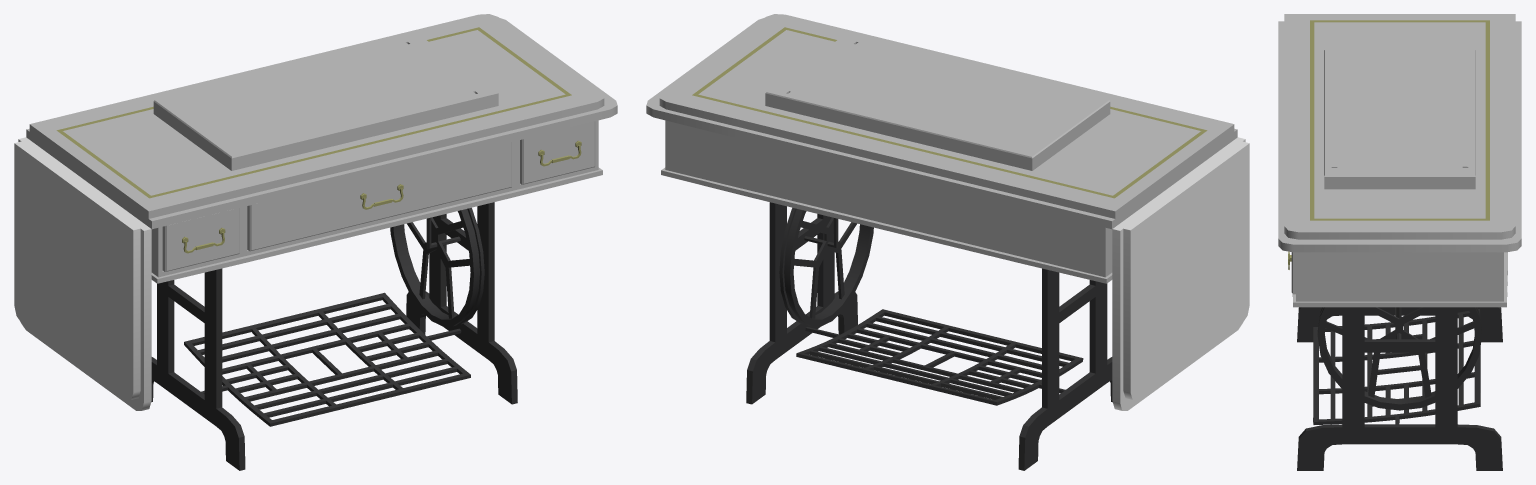
Rendered from desk-1.fbx.
The picture shows the model from 3 angles, left to right: view 1: azimuth 30°, elevation 25°; view 2: azimuth 150°, elevation 25°; view 3: azimuth 270°, elevation 25°; orthographic projection. The views are drawn at different scales.
Parts seen in each view (by area): view 1: desk-1, desk-1-part; view 2: desk-1, desk-1-part; view 3: desk-1.
Part boxes in pixels (x1=…): desk-1: x1=26, y1=14, x2=617, y2=470; desk-1-part: x1=14, y1=137, x2=151, y2=410; desk-1: x1=646, y1=14, x2=1237, y2=470; desk-1-part: x1=1112, y1=137, x2=1249, y2=410; desk-1: x1=1278, y1=14, x2=1521, y2=470.
Bounding box in the file's own units: 178 × 106 × 79.43.
Materials: 2 (2 with a texture image).
